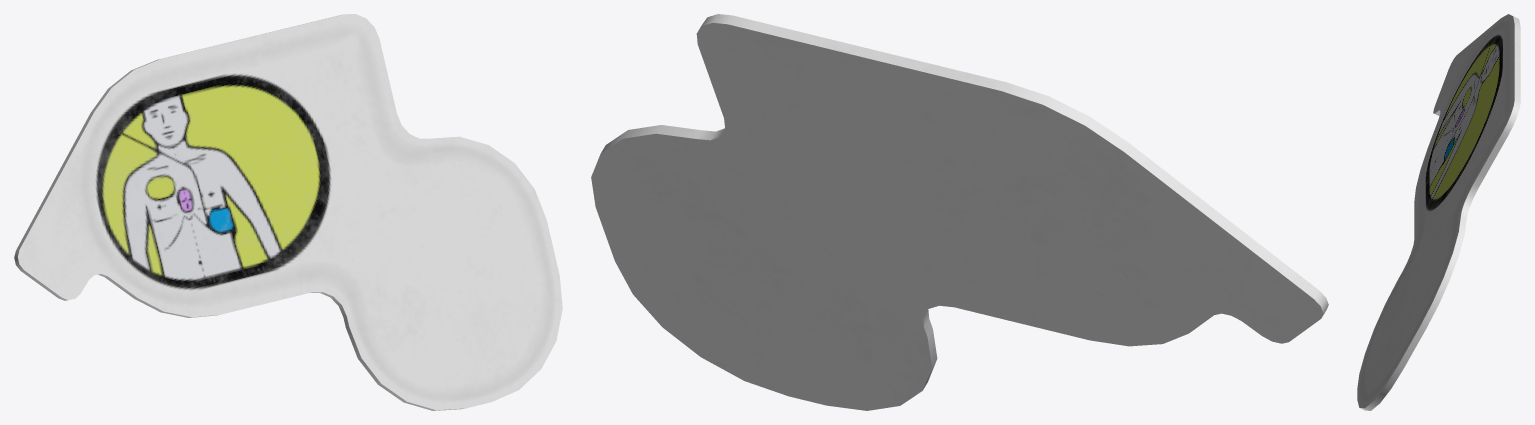
The model's file is BCMM_AppliedAEDUpper.fbx.
The picture shows the model from 3 angles, left to right: view 1: azimuth 30°, elevation 25°; view 2: azimuth 150°, elevation 25°; view 3: azimuth 270°, elevation 25°; orthographic projection. The views are drawn at different scales.
Parts seen in each view (by area): view 1: BCMM_AppliedAEDUpper; view 2: BCMM_AppliedAEDUpper; view 3: BCMM_AppliedAEDUpper.
Part boxes in pixels (x1,y1,x2,y2): BCMM_AppliedAEDUpper: (14,14,562,410); BCMM_AppliedAEDUpper: (591,14,1328,410); BCMM_AppliedAEDUpper: (1357,14,1520,410).
Size of what is drawn, in the model's own units: 9.5 by 5.99 by 3.15.
